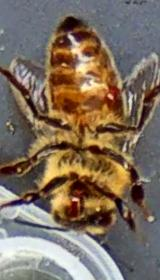varroa_mite: (100, 80, 128, 111)
